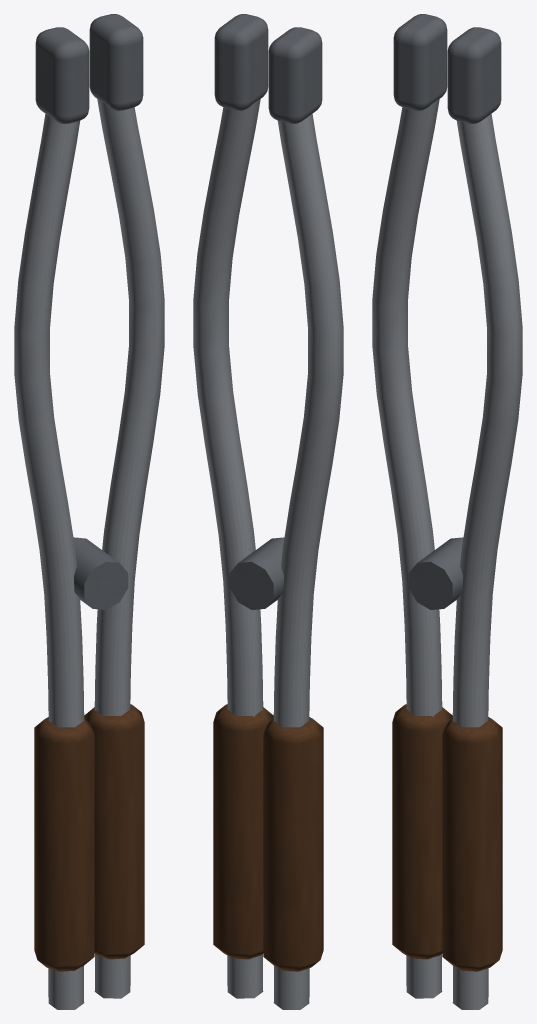
Rendered from tongs.glb.
3 renders of one model, left to right at view 1: azimuth 30°, elevation 25°; view 2: azimuth 150°, elevation 25°; view 3: azimuth 330°, elevation 25°, orthographic.
Visible parts, largest first — view 1: tongs; view 2: tongs; view 3: tongs.
Part boxes in pixels (x1,y1,x2,y2): tongs: [14, 14, 164, 1009]; tongs: [193, 14, 343, 1009]; tongs: [372, 14, 522, 1009].
Bounding box in the file's own units: 0.0733 × 0.4801 × 0.03.
3 materials, 3 textured.
